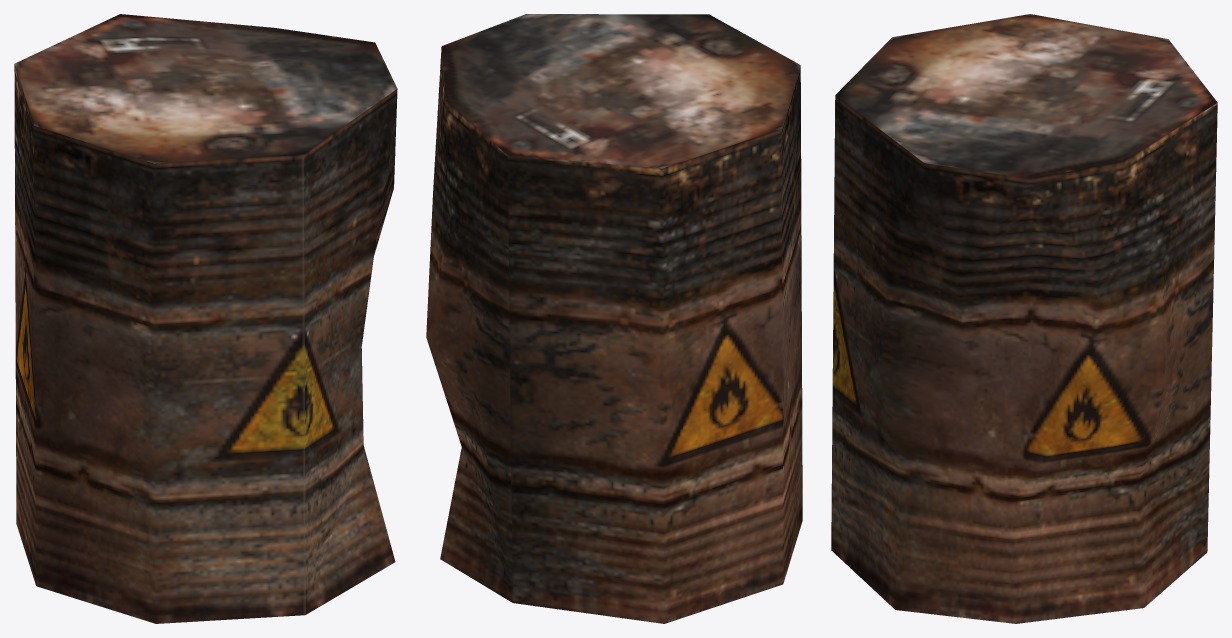
File: Oil_BarrelB.fbx
3 views of the same model, side by side, from view 1: azimuth 30°, elevation 25°; view 2: azimuth 150°, elevation 25°; view 3: azimuth 270°, elevation 25° (orthographic).
Visible parts, largest first — view 1: Oil_BarrelB; view 2: Oil_BarrelB; view 3: Oil_BarrelB.
Boxes of the visible parts, x1=… form: Oil_BarrelB: x1=14, y1=14, x2=397, y2=623; Oil_BarrelB: x1=426, y1=14, x2=802, y2=623; Oil_BarrelB: x1=831, y1=14, x2=1217, y2=623.
Bounding box in the file's own units: 119 × 154 × 118.
